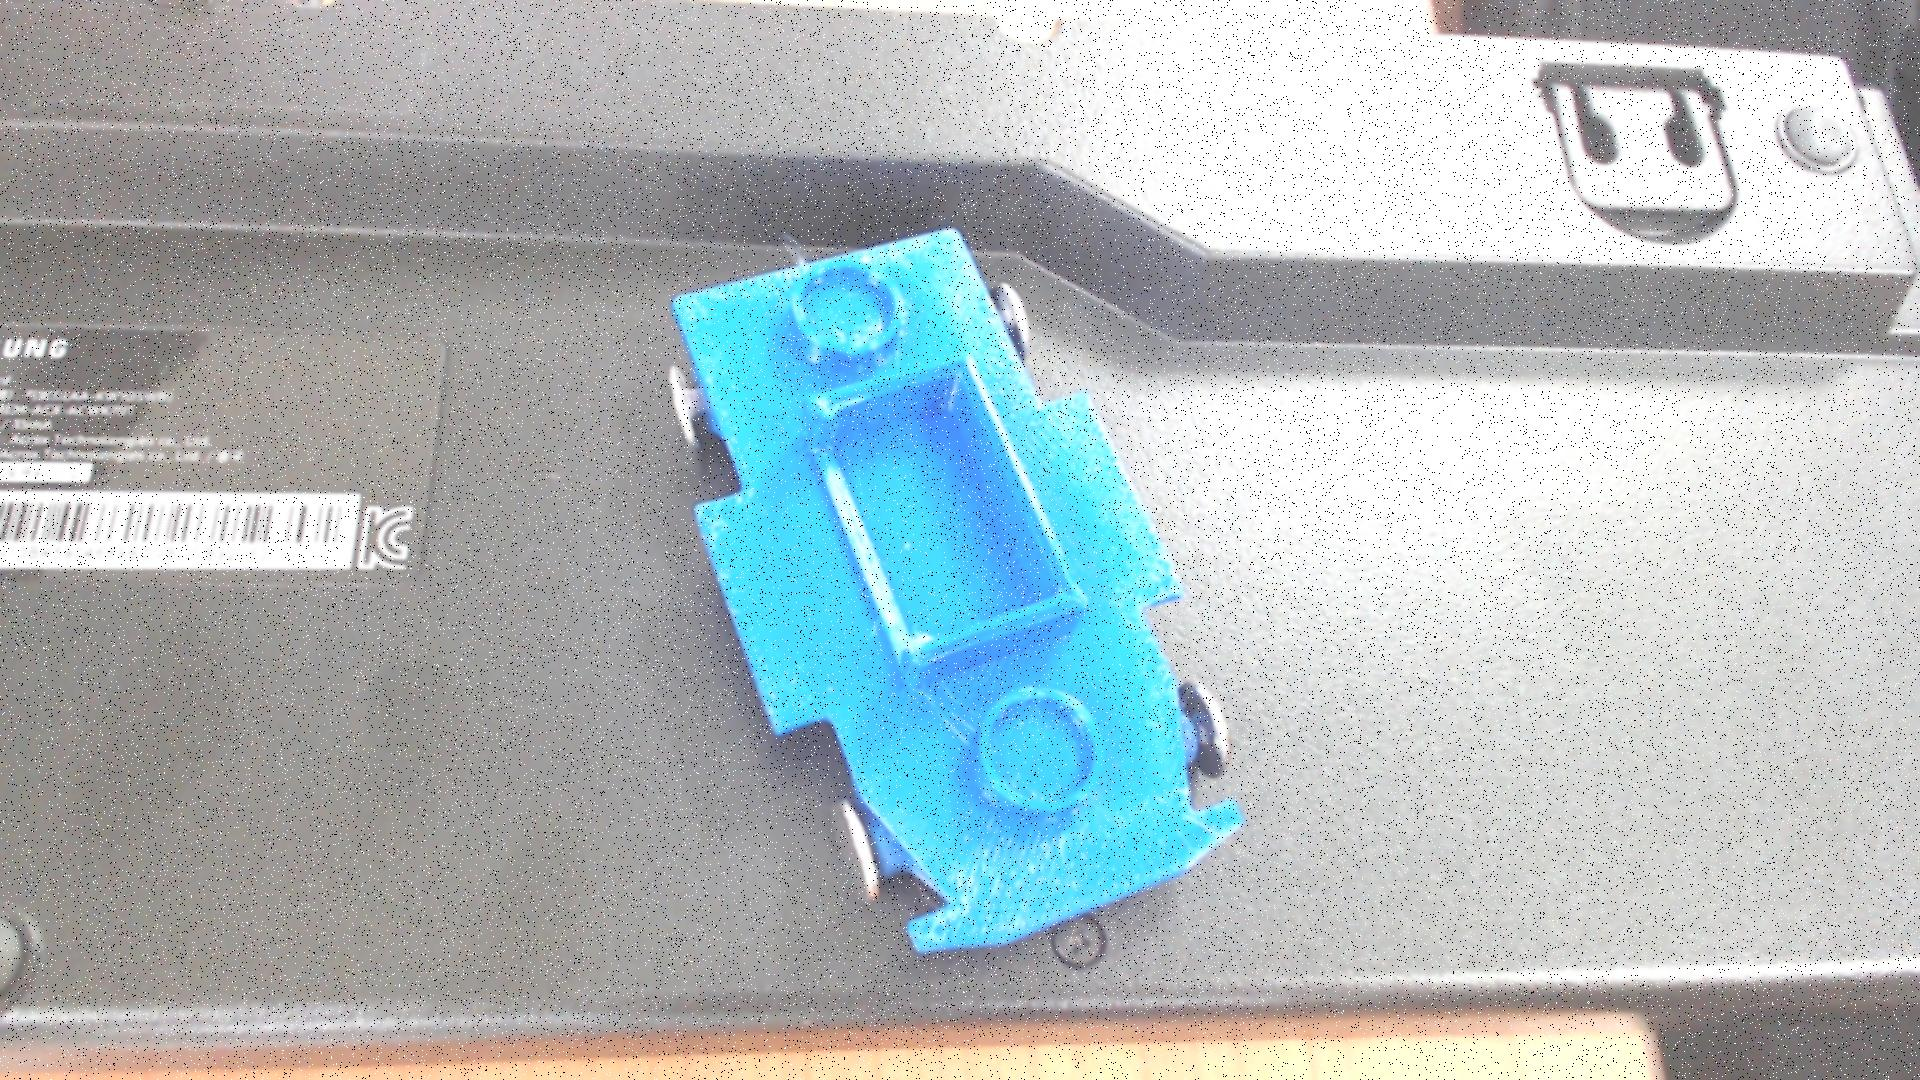lower_ng: (775, 340, 1104, 708)
